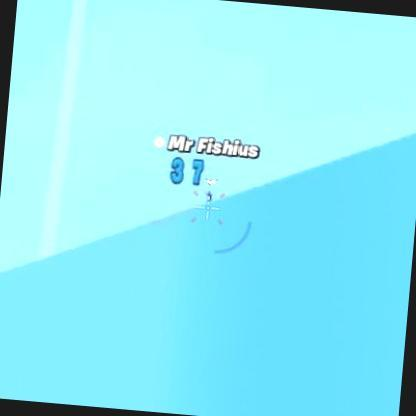person: (207, 188, 213, 202)
